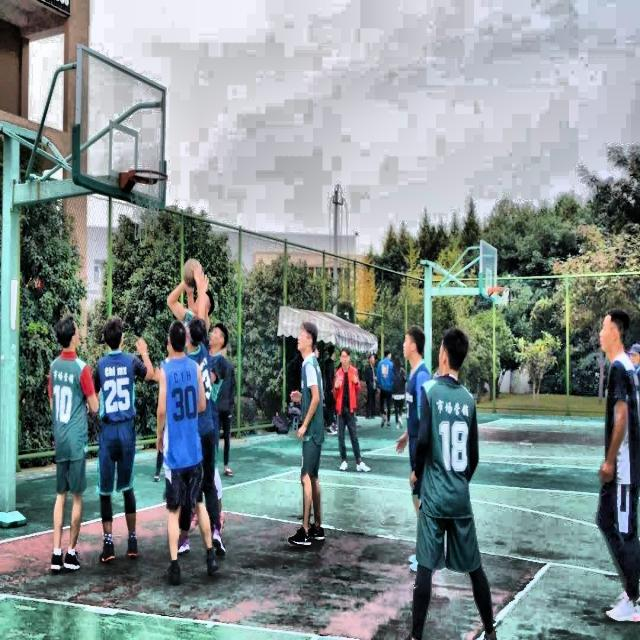board: (183, 259, 202, 288)
